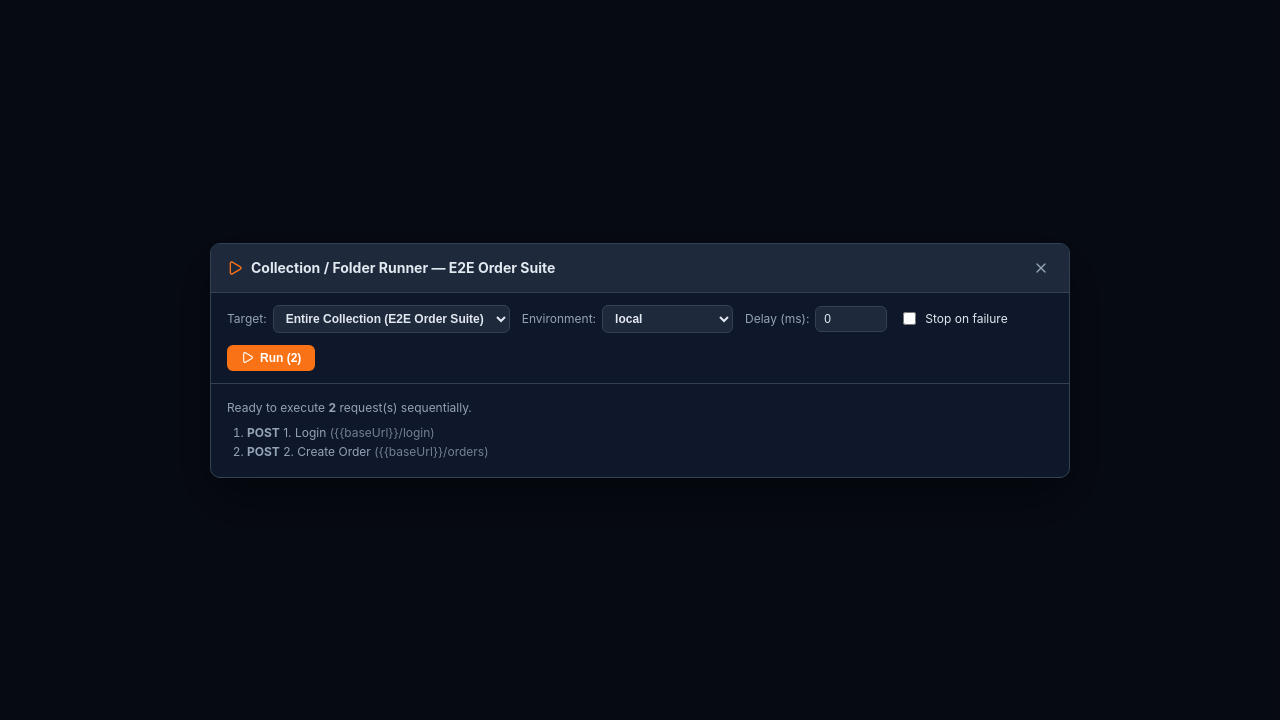
Test case: CollectionRunnerModal › executes requests sequentially, forwards captured variables between steps, and exports JSON report
This screenshot has width=1280, height=720.
Click the button with test id "start-collection-run-btn": click(271, 358) [227,344,315,370]
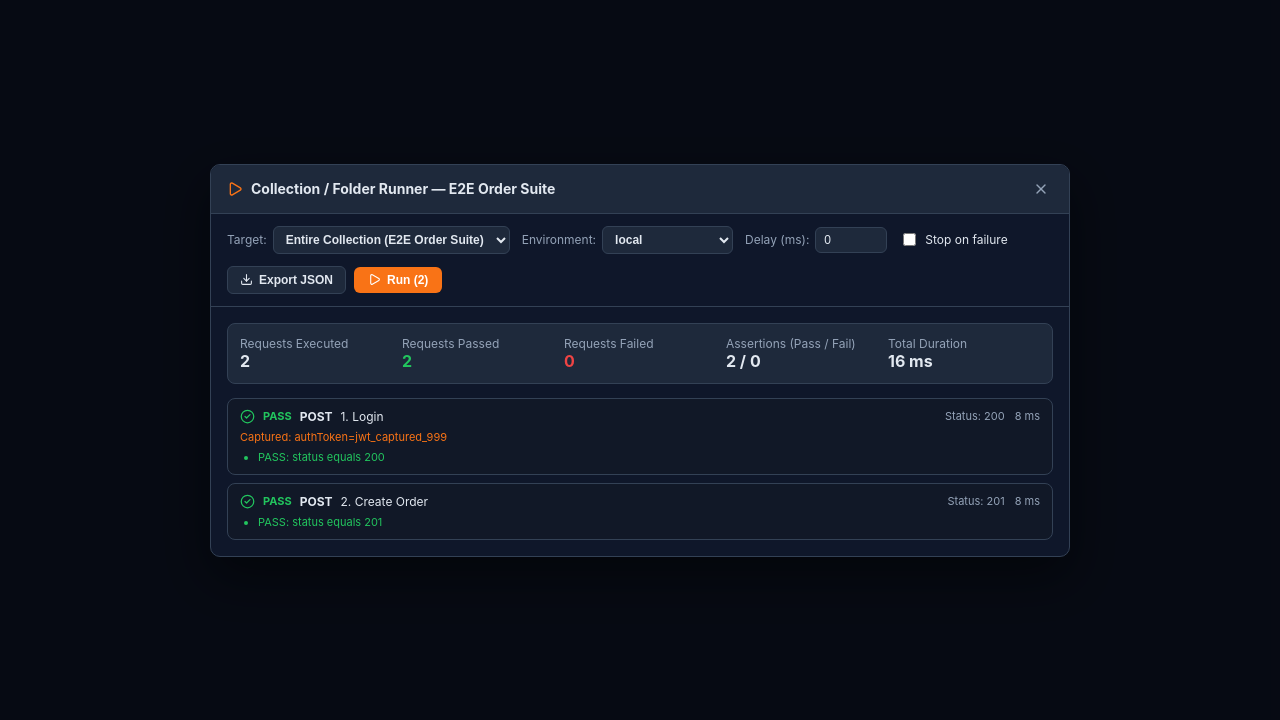
Check: the element with test id "runner-summary" is shown, box [227,322,1053,384]
Check: the text with test id "runner-total-requests" reads "2", box [240,350,250,370]
Check: the text with test id "runner-passed-requests" reads "2", box [402,350,412,370]
# Export JSON report
Click the button with test id "export-runner-report-json-btn": click(286, 280) [227,266,346,294]
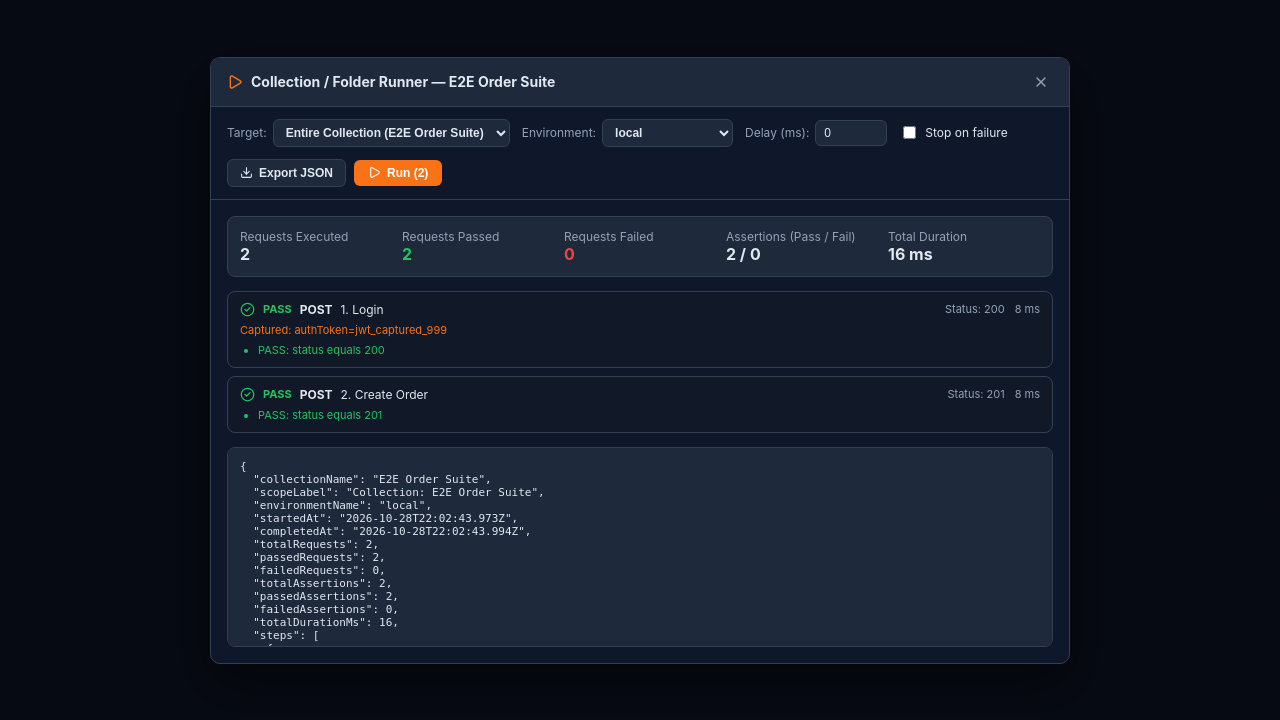
Check: the text with test id "runner-exported-json-preview" is shown, box [227,446,1053,646]
